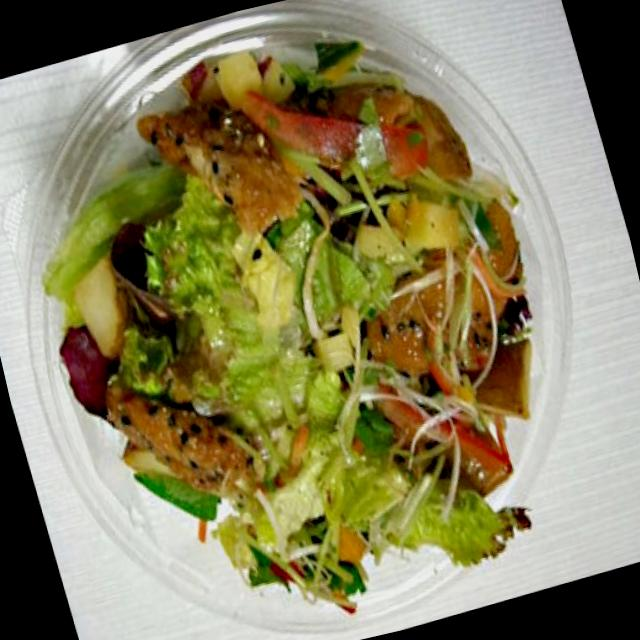Green Salad: (32, 25, 597, 640)
